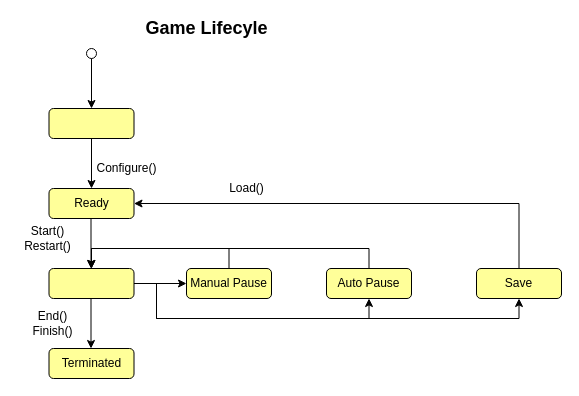
The diagram is 579 pixels wide and 396 high, and some of its shapes have lost their labels. Here are the shapes that lost their labels. From the top down, the centre of each, then its label:
At (91,123): "New".
At (91,283): "Running".
